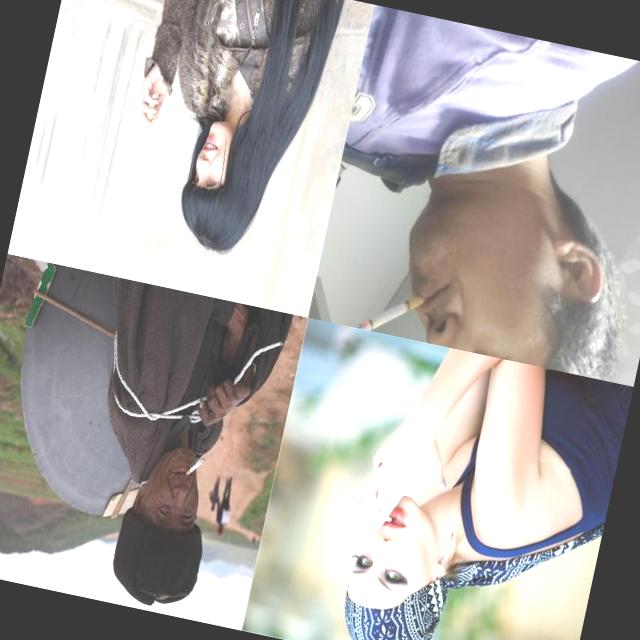cigarette: (356, 282, 426, 341), (350, 497, 396, 523), (125, 108, 159, 142), (184, 454, 206, 479)
